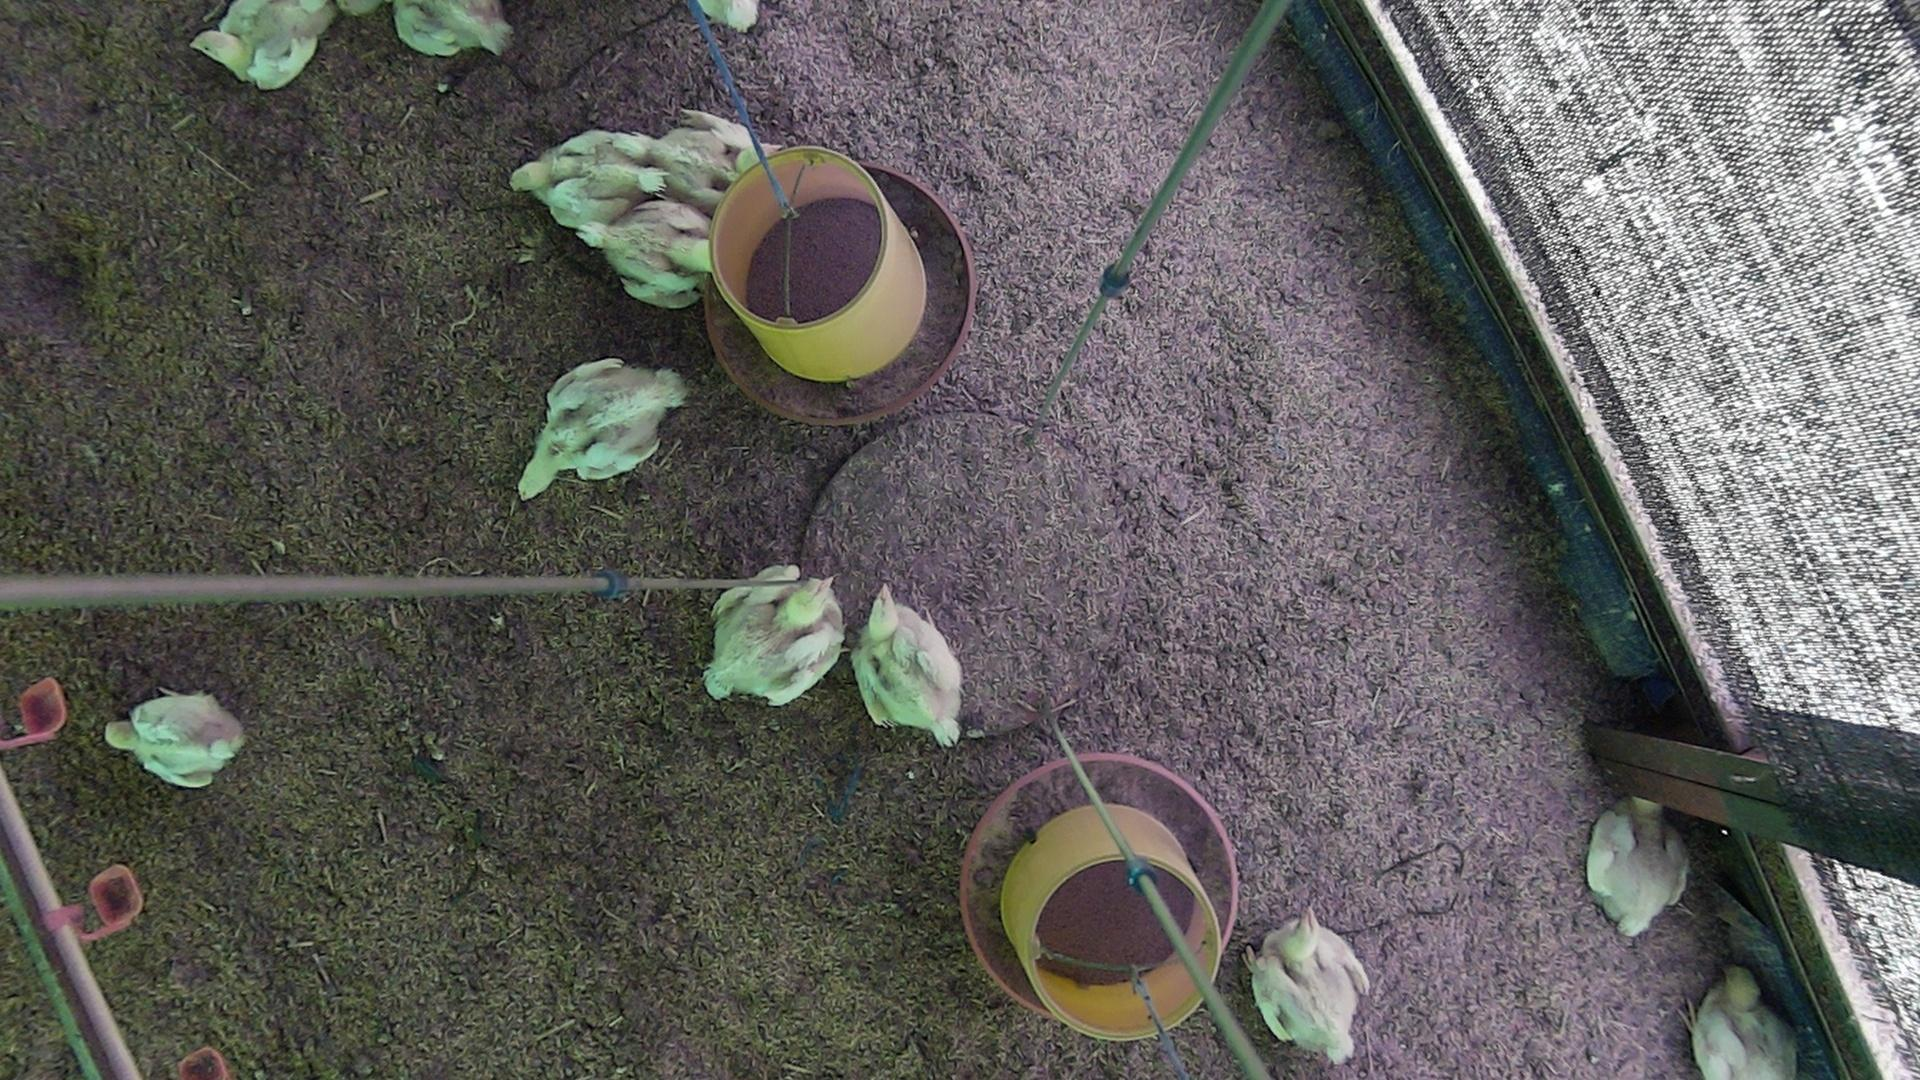ayam_broiler: (518, 359, 687, 504), (700, 563, 851, 707), (1244, 906, 1370, 1067), (852, 583, 967, 750), (624, 111, 783, 219), (574, 203, 713, 310), (512, 131, 670, 224), (104, 687, 245, 789), (1588, 800, 1689, 938), (1680, 968, 1796, 1080), (193, 0, 336, 90), (394, 0, 512, 54)
